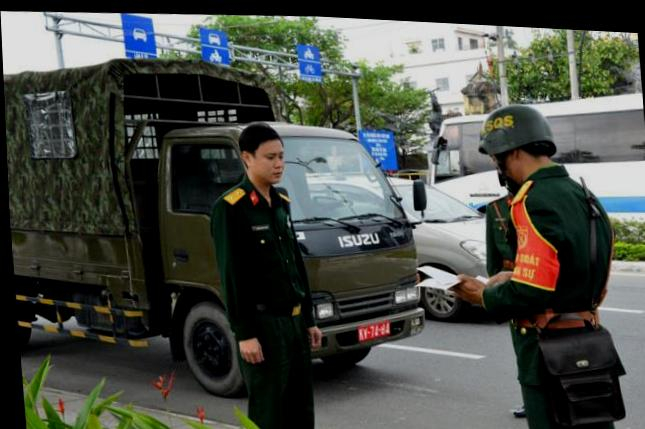License_Plate: (352, 319, 391, 343)
